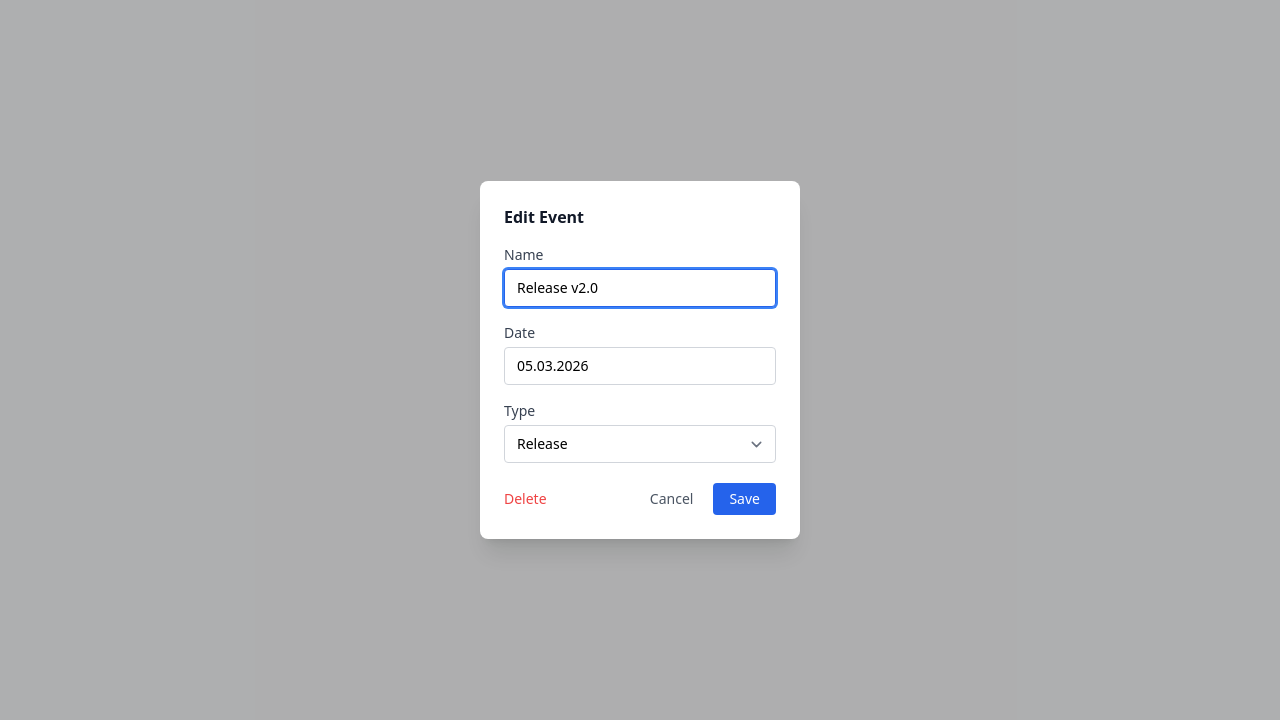
Test: PIEventModal › shows a delete error and stays open when deleting fails
Click the button "Delete".
click(525, 499)  # box [504,489,547,509]
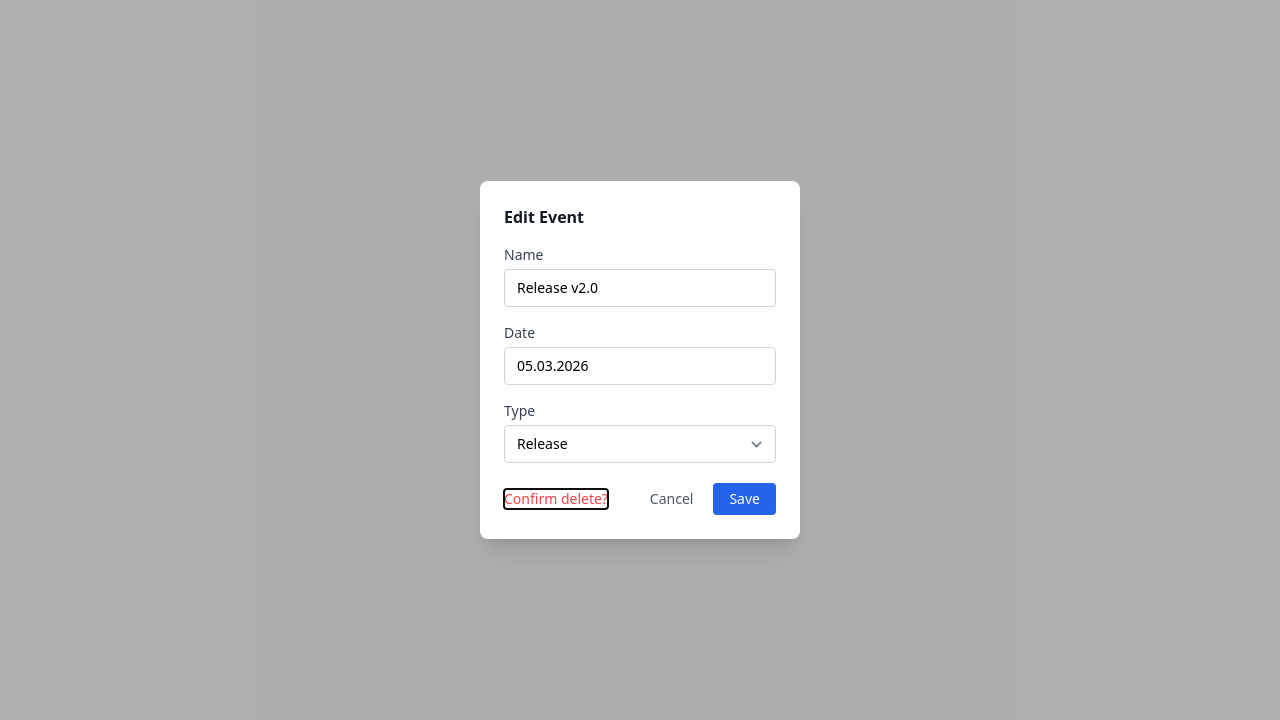
Click the button "Confirm delete?".
click(556, 499)  # box [504,489,608,509]
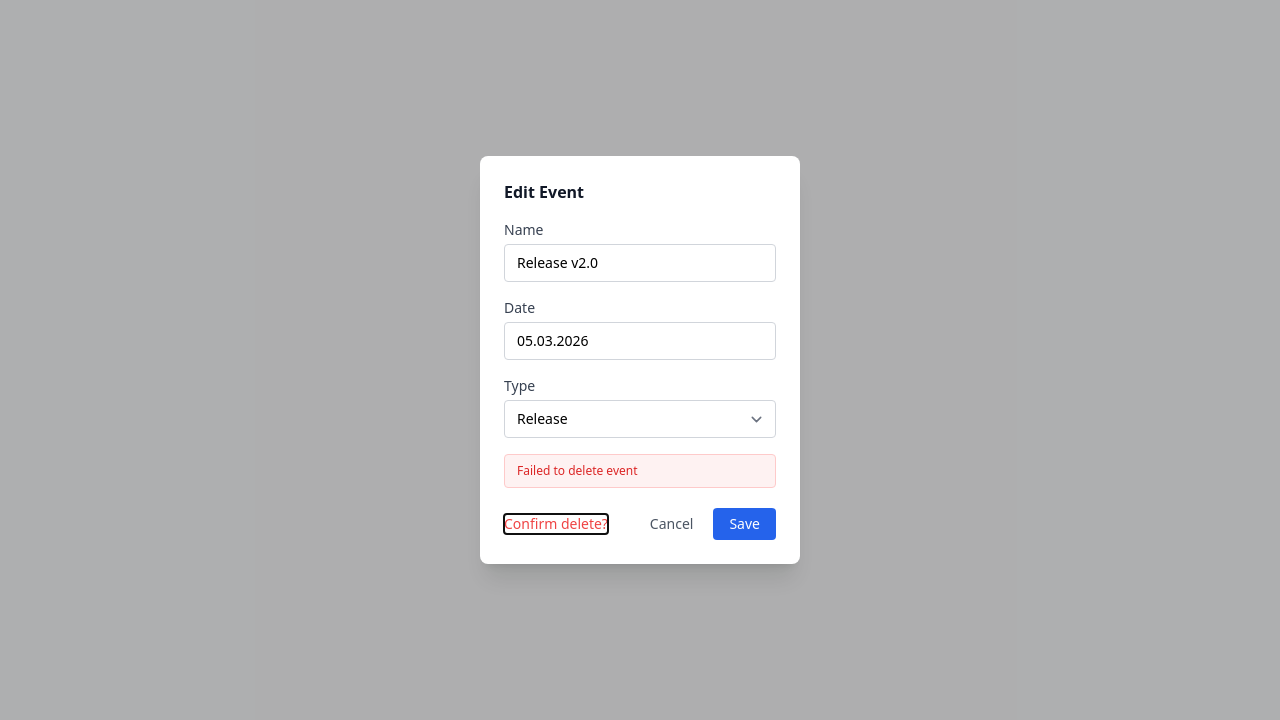
Check: the text "Failed to delete event" is shown, box [504,454,776,488]
